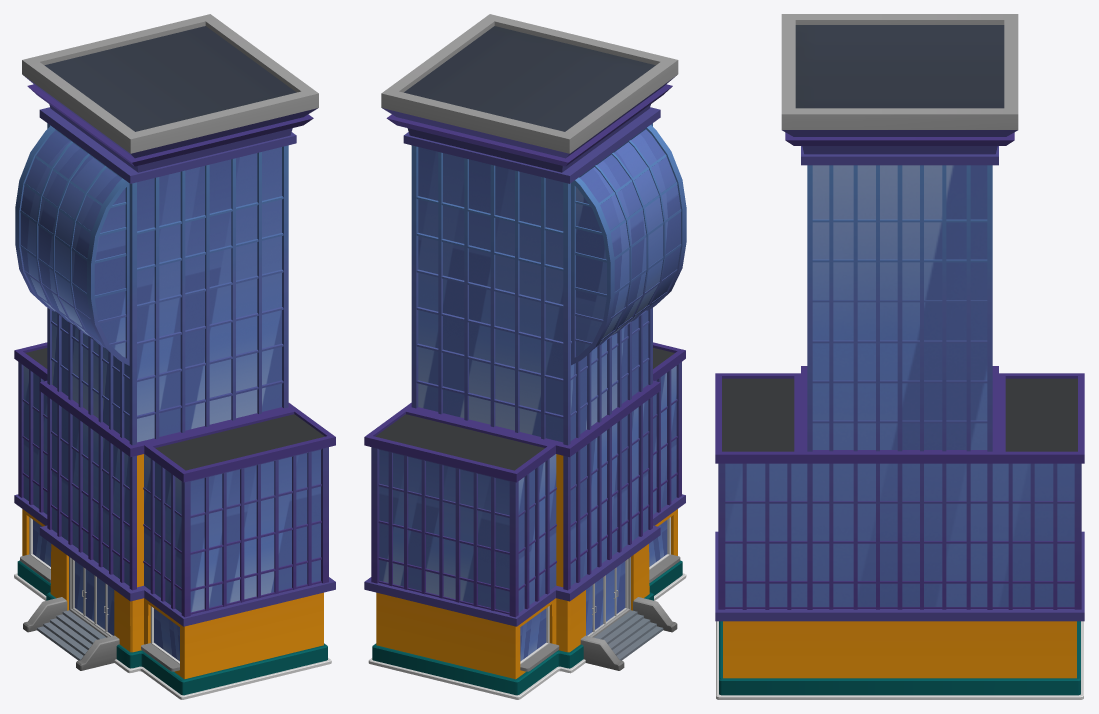
Rendered from Building_15_I.fbx.
3 views of the same model, side by side, from view 1: azimuth 30°, elevation 25°; view 2: azimuth 150°, elevation 25°; view 3: azimuth 270°, elevation 25° (orthographic). The views are drawn at different scales.
Parts seen in each view (by area): view 1: Building_15_I; view 2: Building_15_I; view 3: Building_15_I.
Boxes of the visible parts, x1,y1,x2,y2 form: Building_15_I: (14, 14, 335, 699); Building_15_I: (364, 14, 686, 699); Building_15_I: (715, 14, 1084, 699).
Size of the model in its own units: 860 by 2100 by 1183.
